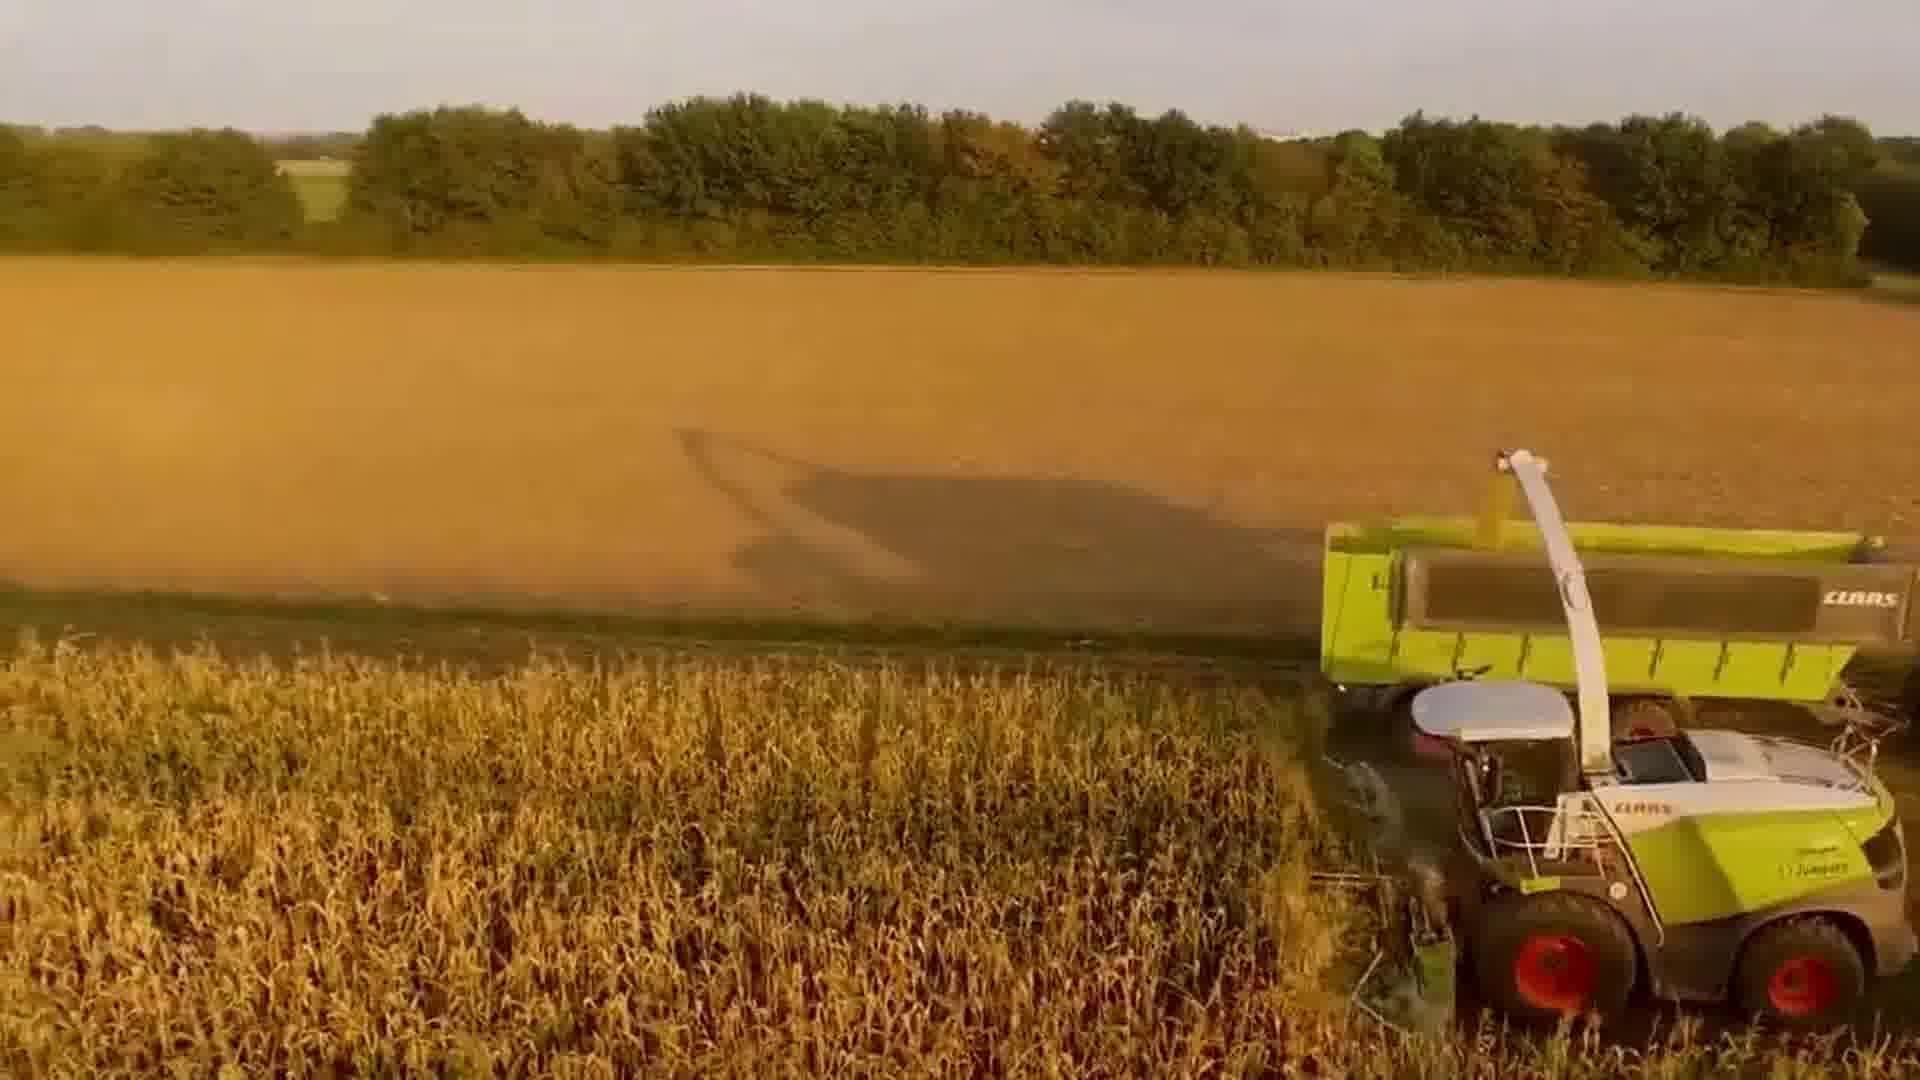combine harvester: (1273, 436, 1920, 1044)
trailer: (1305, 496, 1908, 745)
